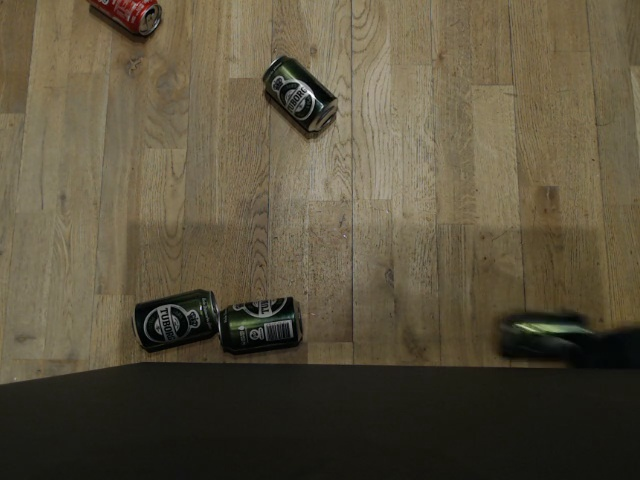beer: (258, 51, 342, 137), (127, 284, 220, 355), (492, 307, 598, 363), (218, 295, 309, 355)
cola: (87, 0, 165, 41)
